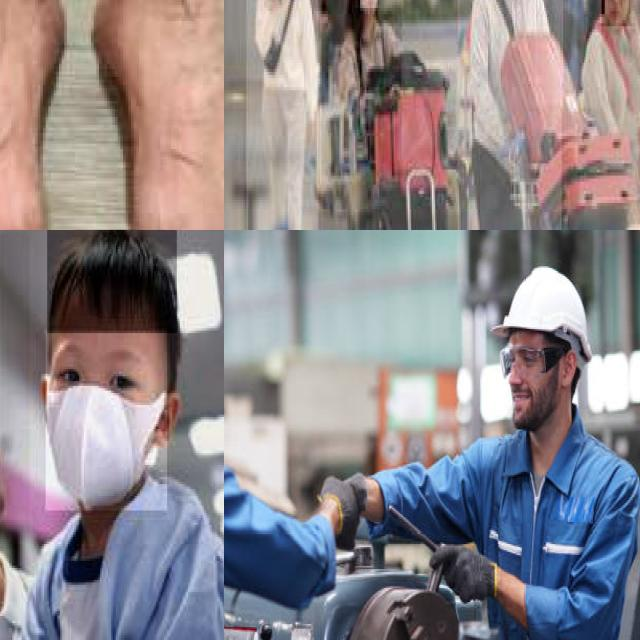Barefoots: (96, 0, 224, 230), (0, 0, 91, 230)
No_Ear-Protection: (40, 330, 152, 402), (559, 351, 578, 388)
face_mask: (46, 330, 167, 510)
face_nomask: (509, 364, 558, 431), (601, 0, 630, 26)
glasses: (500, 345, 566, 376)
hand_glove: (430, 546, 496, 603), (320, 474, 368, 550)
head_helmet: (491, 268, 591, 368)
head_nohelmet: (47, 230, 178, 335)
person: (1, 230, 224, 640), (457, 0, 563, 230), (246, 0, 319, 230), (321, 0, 403, 178), (577, 0, 640, 200), (534, 0, 601, 108)
